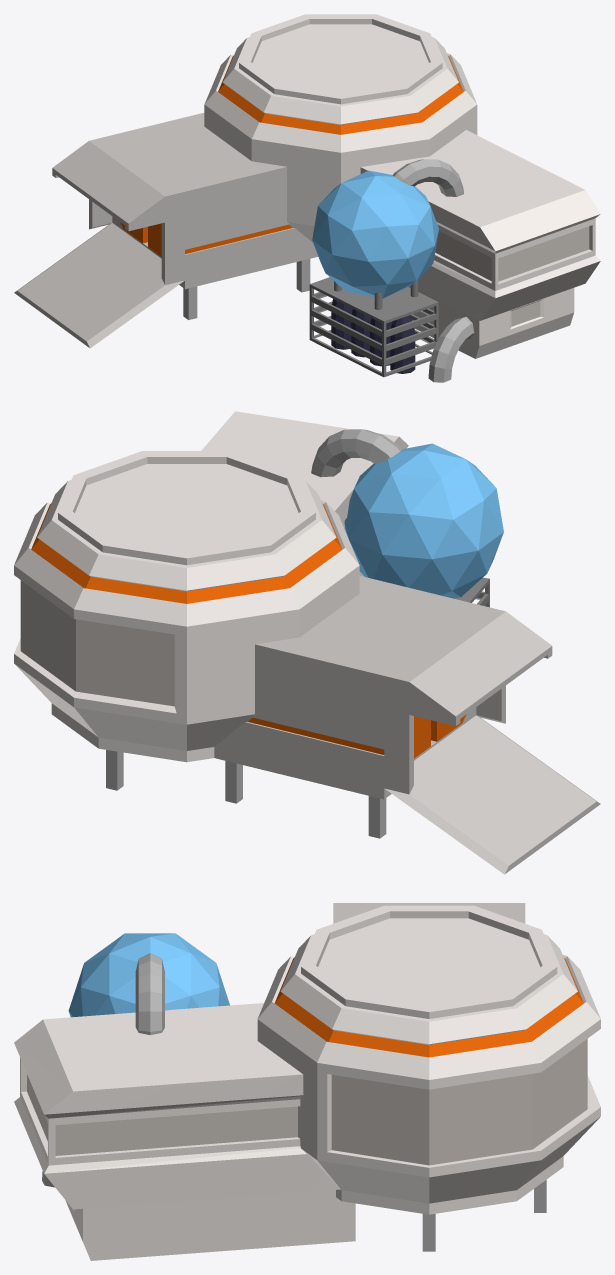
File: Mars-One_research_institute.FBX
3 renders of one model, top to bottom at view 1: azimuth 30°, elevation 25°; view 2: azimuth 150°, elevation 25°; view 3: azimuth 270°, elevation 25°, orthographic. The views are drawn at different scales.
Visible parts, largest first — view 1: Box001; view 2: Box001; view 3: Box001.
Boxes of the visible parts, bbox=[...] form: Box001: bbox=[14, 14, 600, 382]; Box001: bbox=[14, 411, 600, 874]; Box001: bbox=[14, 903, 600, 1260].
Size of the model in its own units: 3.35 by 1.59 by 3.31.
